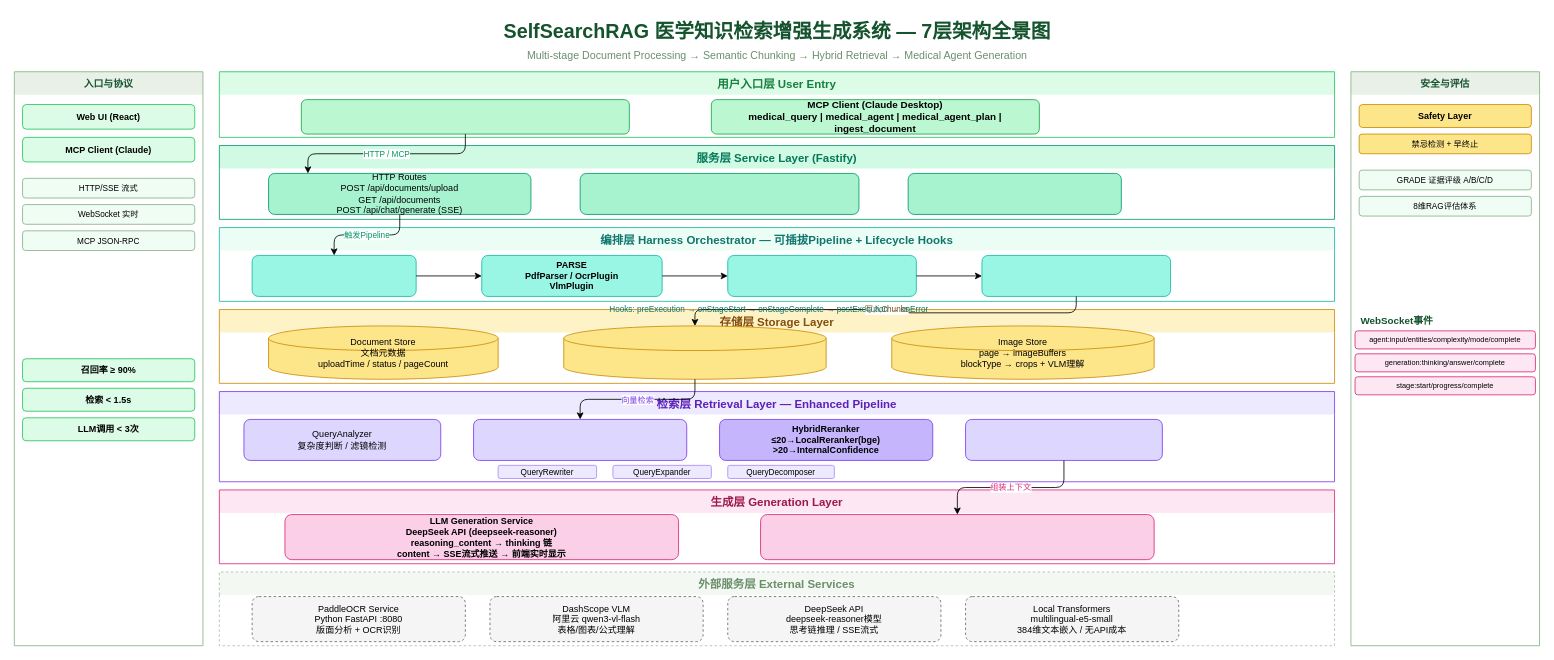
Some shapes in this 1554 by 660 pixel diagram are drawn without their labels. Each missing label, with the centre of its shape:
"CHUNK SemanticChunker CliffDetector / QualityFilter" belongs at pixel 821 275.
"ContextAssembler 置信度标注 动态TopK截断 / 去重" belongs at pixel 1063 439.
"EMBED EmbeddingService ImageEmbedding / Cache" belongs at pixel 1076 275.
"Hierarchical Store Parent Chunk (1000-2000 tokens) Child Chunks (4-6 per parent)" belongs at pixel 694 352.
"INGEST Validator Queue" belongs at pixel 333 275.
"Medical Agent Framework 实体识别 → 安全层 → ReAct/Planning 三层综合回答 + 8维RAG评估 + 异步评估队列" belongs at pixel 957 537.
"Pipeline Emitter 事件广播器 → WebSocket推送" belongs at pixel 1014 193.
"Small-to-Big Retriever Phase1:小块精准定位 Phase2:父块上下文展开" belongs at pixel 580 439.
"Web UI (React SPA) 可视化上传/检索/评估 实时Pipeline监控 / Agent交互面板" belongs at pixel 465 116.
"WebSocket Handler stage / agent / retrieval / generation / stats 事件" belongs at pixel 719 193.
